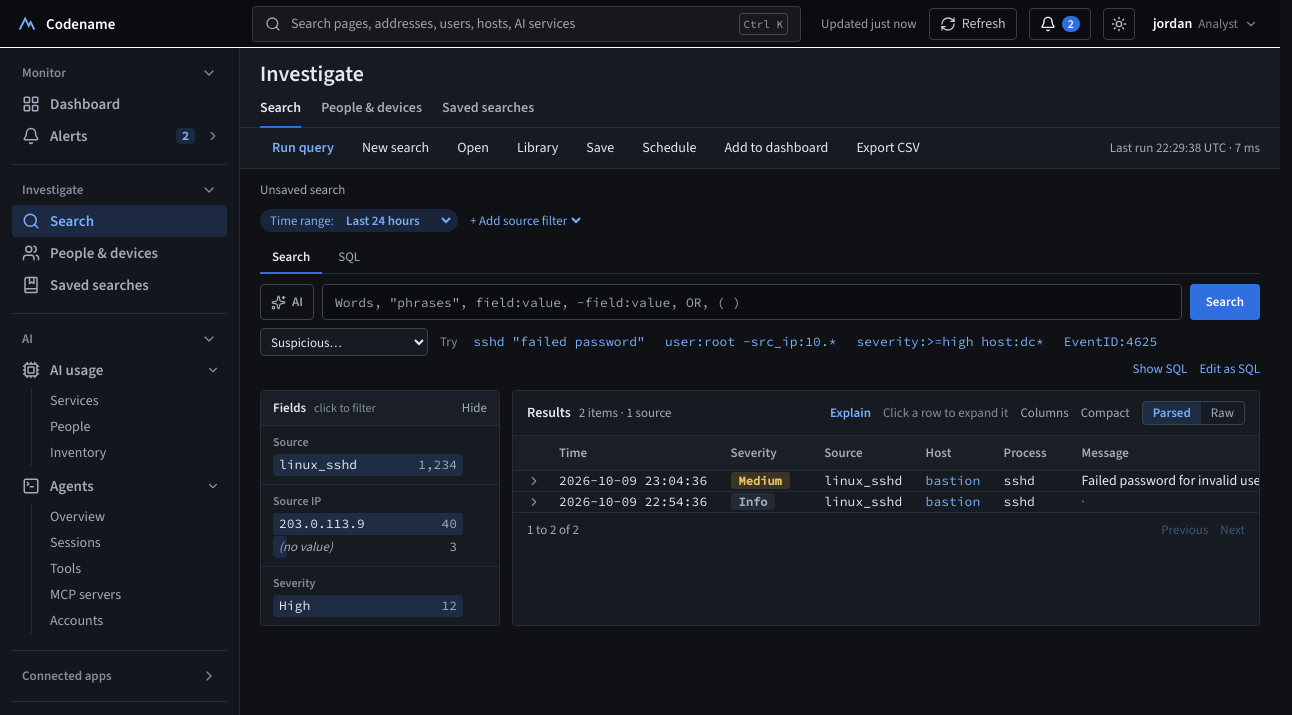
Test: Saved searches page › offers to move SQL typed into the Simple box
Type "SELECT count(*) FROM events" into the search field named "Search text".
click(752, 302); type("SELECT count(*) FROM events")  # box [322,284,1182,320]
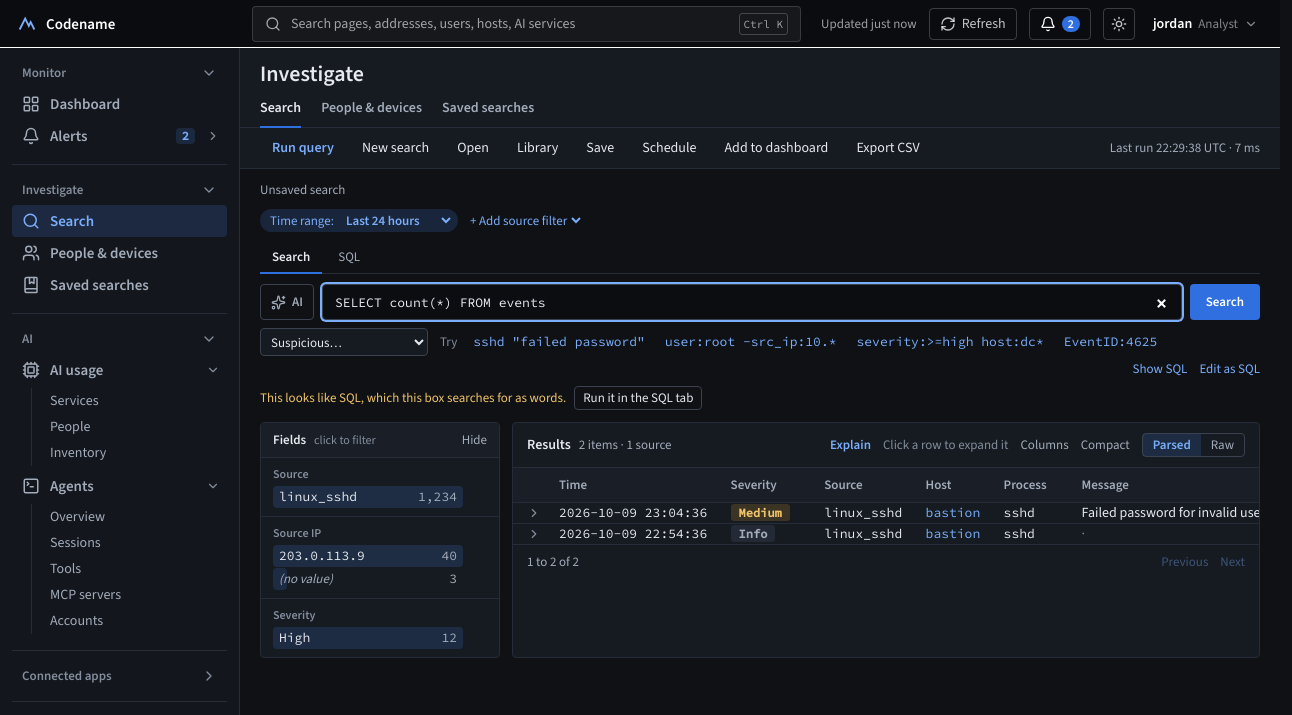
Click the button "Run it in the SQL tab".
click(638, 398)  # box [574,386,702,410]
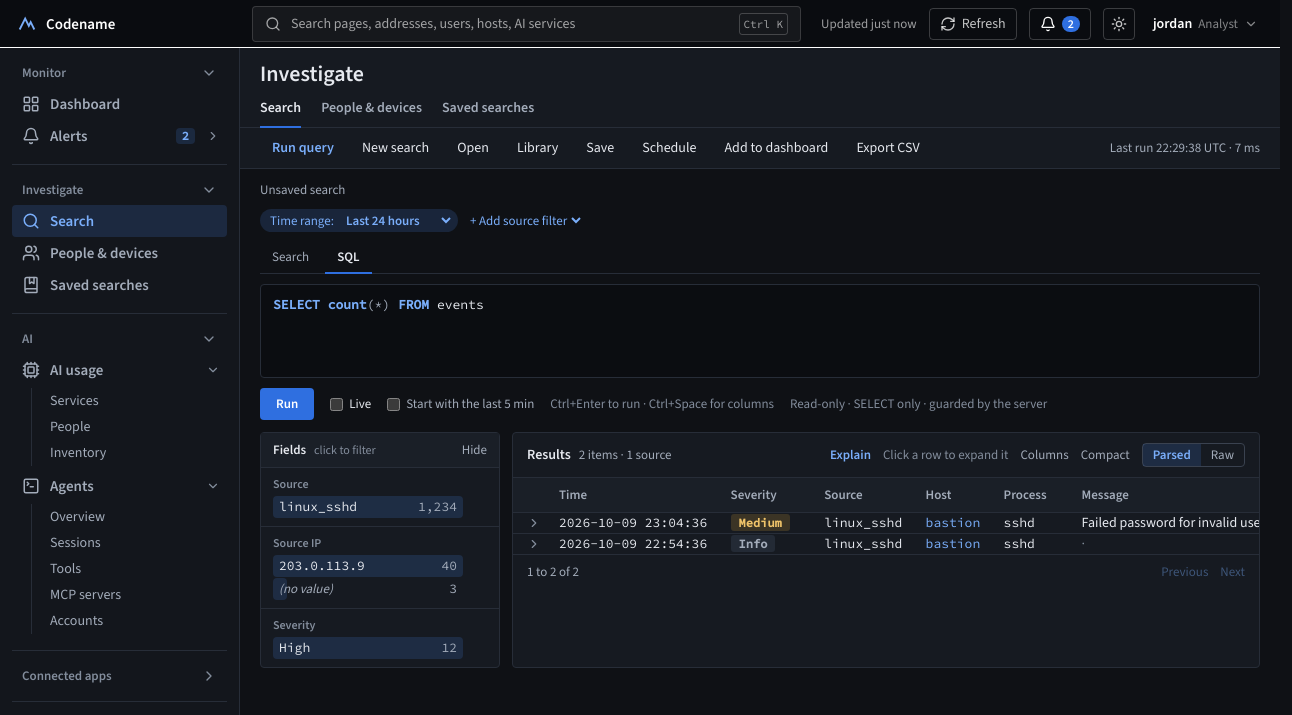
Check: the field named "SQL query" reads "SELECT count(*) FROM events", box [273,296,484,313]
